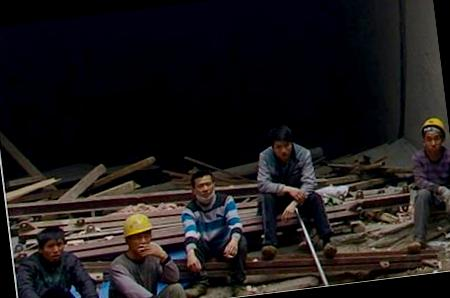no_helmet: (30, 218, 70, 263), (186, 164, 224, 206), (266, 122, 298, 162)
